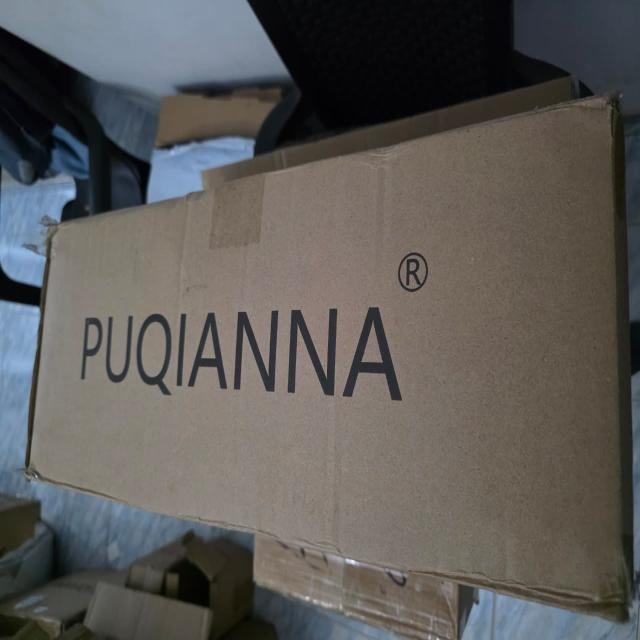carton_box: (17, 93, 640, 640)
package_damage: (19, 207, 72, 503), (539, 579, 640, 633)
